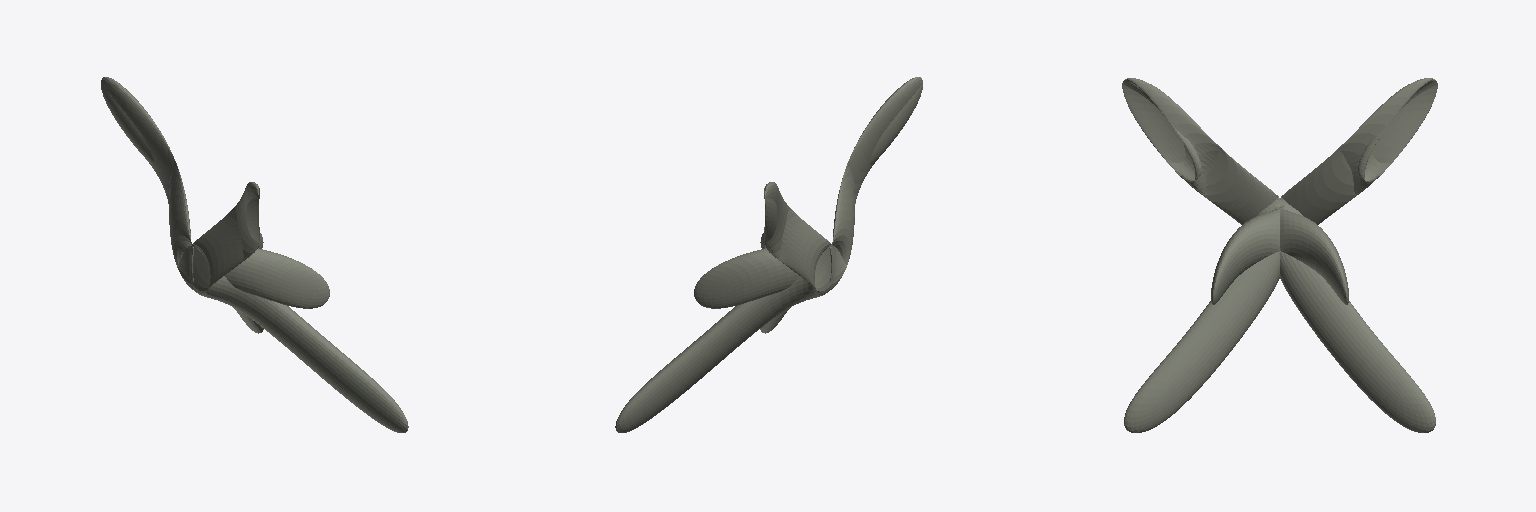
File: Creaturestruc22.obj
3 renders of one model, left to right at view 1: azimuth 30°, elevation 25°; view 2: azimuth 150°, elevation 25°; view 3: azimuth 270°, elevation 25°, orthographic.
Parts seen in each view (by area): view 1: Cube_Cube.023; view 2: Cube_Cube.023; view 3: Cube_Cube.023.
Boxes of the visible parts, x1,y1,x2,y2 form: Cube_Cube.023: [101, 77, 408, 432]; Cube_Cube.023: [615, 77, 922, 432]; Cube_Cube.023: [1122, 78, 1437, 432].
Size of the model in its own units: 6.83 by 12.13 by 12.22.